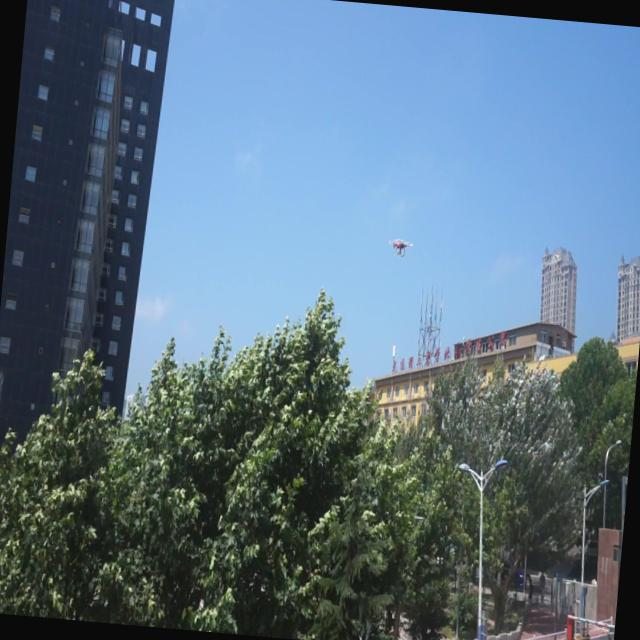drone: (387, 237, 413, 257)
